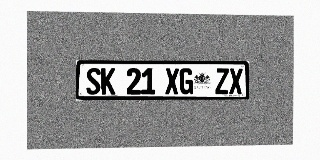1: (141, 68, 155, 94)
2: (127, 68, 141, 94)
G: (179, 68, 193, 94)
K: (101, 68, 115, 95)
S: (86, 68, 101, 95)
X: (165, 68, 179, 94), (229, 68, 243, 94)
Z: (215, 68, 229, 94)
